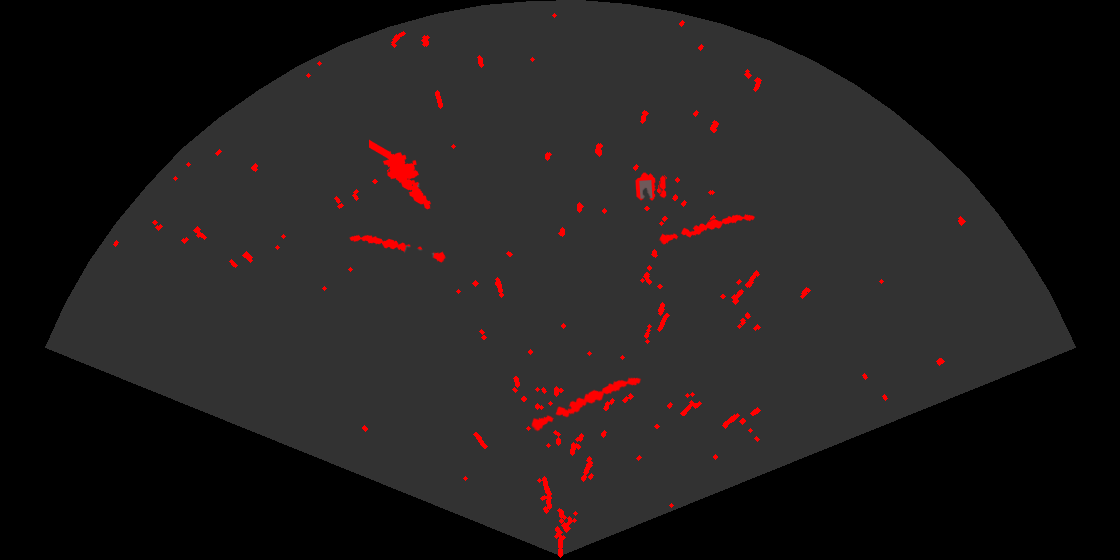ball: (634, 171, 668, 202)
chain: (530, 376, 643, 433), (657, 213, 757, 246), (348, 233, 448, 264)
frogman: (369, 139, 433, 211)
